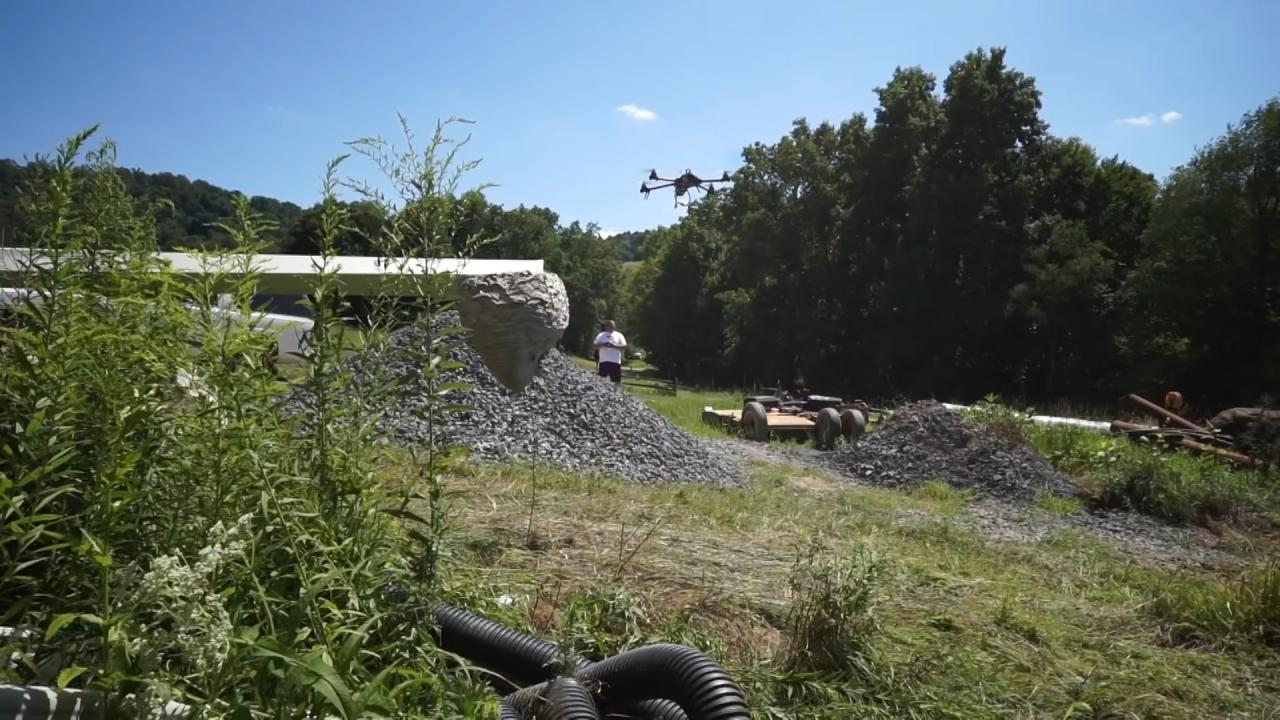Drone: (629, 159, 744, 212)
